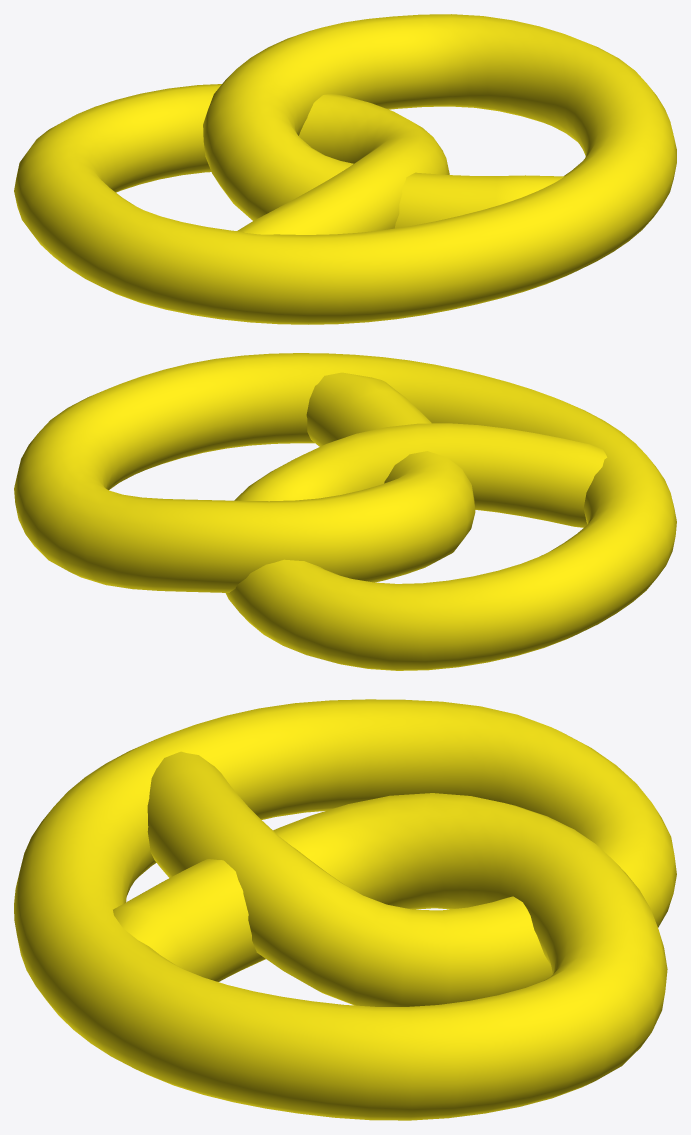
File: City_15_Pretzel_1.glb
The picture shows the model from 3 angles, top to bottom: view 1: azimuth 30°, elevation 25°; view 2: azimuth 150°, elevation 25°; view 3: azimuth 270°, elevation 25°; orthographic projection. The views are drawn at different scales.
Visible parts, largest first — view 1: City_15_Pretzel_1; view 2: City_15_Pretzel_1; view 3: City_15_Pretzel_1.
Boxes of the visible parts, bbox=[...] form: City_15_Pretzel_1: bbox=[14, 14, 676, 324]; City_15_Pretzel_1: bbox=[14, 353, 676, 670]; City_15_Pretzel_1: bbox=[14, 699, 676, 1120].
Size of the model in its own units: 0.4305 by 0.0799 by 0.3382.
Materials: 1 (1 with a texture image).
